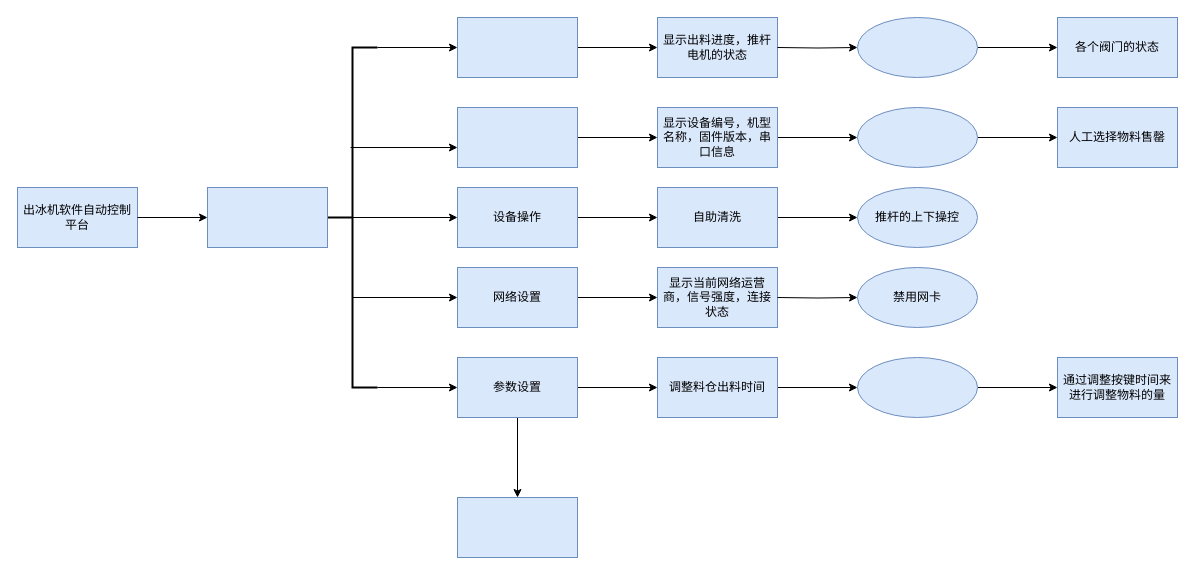
Some shapes in this 1195 by 575 pixel diagram are drawn without their labels. The shapes that lost their labels are listed below. From the top down, each one's centre as x and y in pixels, then its label:
At pixel 517 47: "设备状态".
At pixel 917 47: "显示清洗进度，清洗状态".
At pixel 517 137: "设备信息".
At pixel 917 137: "可以开电磁锁，选择商品售罄".
At pixel 267 217: "长按屏幕左上角输入账号密码进入后台".
At pixel 917 387: "定量出料".
At pixel 517 527: "通过制冰机来调整冰块大小".
